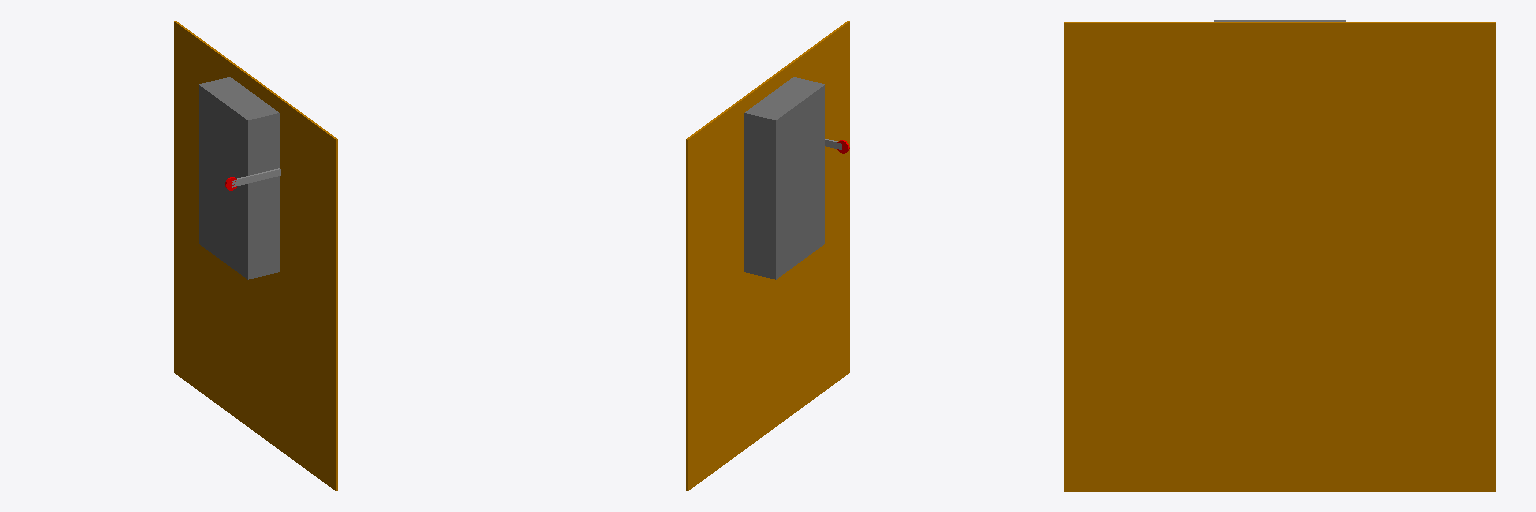
URDF robot description (DRCTestbedLever_fixed):
<?xml version="1.0"?>
<robot name="DRCTestbedLever_fixed"
       xmlns:xi="http://www.w3.org/2001/XInclude"
       >
  <gazebo>
    <static>false</static>
  </gazebo>
  <link name="DRC-TESTBED-LEVER-BODYSET9_link">
    <visual>
      <origin xyz="0 0 0" rpy="0 -0 0"/>
      <geometry>
        <mesh filename="model://DRCTestbedLever/meshes/DRC-TESTBED-LEVER-BODYSET9_link_mesh.dae" scale="1 1 1" />
      </geometry>
    </visual>
    <collision>
      <origin xyz="0 0 0" rpy="0 -0 0"/>
      <geometry>
        <mesh filename="model://DRCTestbedLever/meshes/DRC-TESTBED-LEVER-BODYSET9_link_mesh.dae" scale="1 1 1" />
      </geometry>
    </collision>
    <inertial>
      <mass value="0.001" />
      <origin xyz="0 0 0" rpy="0 -0 0"/>
      <inertia ixx="1e-03" ixy="0" ixz="0" iyy="1e-03" iyz="0" izz="1e-03"/>
    </inertial>
  </link>
  <gazebo reference="DRC-TESTBED-LEVER-BODYSET9_link">
    <mu1>0.9</mu1>
    <mu2>0.9</mu2>
  </gazebo>
  <link name="DRC-TESTBED-LEVER-BODYSET47_link">
    <visual>
      <origin xyz="0 -0.2025 1.365" rpy="0 -0 0"/>
      <geometry>
        <mesh filename="model://DRCTestbedLever/meshes/DRC-TESTBED-LEVER-BODYSET47_link_mesh.dae" scale="1 1 1" />
      </geometry>
    </visual>
    <collision>
      <origin xyz="0 -0.2025 1.365" rpy="0 -0 0"/>
      <geometry>
        <mesh filename="model://DRCTestbedLever/meshes/DRC-TESTBED-LEVER-BODYSET47_link_mesh.dae" scale="1 1 1" />
      </geometry>
    </collision>
    <inertial>
      <mass value="0.001" />
      <origin xyz="0 0 0" rpy="0 -0 0"/>
      <inertia ixx="1e-03" ixy="0" ixz="0" iyy="1e-03" iyz="0" izz="1e-03"/>
    </inertial>
  </link>
  <gazebo reference="DRC-TESTBED-LEVER-BODYSET47_link">
    <mu1>0.9</mu1>
    <mu2>0.9</mu2>
  </gazebo>
  <joint name="LEVER-JOINT" type="revolute">
    <parent link="DRC-TESTBED-LEVER-BODYSET9_link"/>
    <child  link="DRC-TESTBED-LEVER-BODYSET47_link"/>
    <origin xyz="0 -0.2025 1.365" rpy="0 -0 0 "/>
    <axis   xyz="0 1 0"/>
    <limit lower="-1.5708" upper="1.5708" effort="100" velocity="0.5" />
    <dynamics damping="0.2" friction="0" />
  </joint>
  <transmission type="pr2_mechanism_model/SimpleTransmission" name="LEVER-JOINT_trans" >
    <actuator name="LEVER-JOINT_motor" />
    <joint name="LEVER-JOINT" />
    <mechanicalReduction>1</mechanicalReduction>
  </transmission>
  <gazebo reference="LEVER-JOINT">
    <cfmDamping>0.4</cfmDamping>
  </gazebo>
  <!-- Used for fixing robot to Gazebo 'base_link' -->
  <link name="world"/>
  <joint name="fixed" type="fixed">
    <parent link="world"/>
    <child link="DRC-TESTBED-LEVER-BODYSET9_link"/>
  </joint>
</robot>

--- Facts derived from the render (not from the file) ---
Views: 3 orthographic renders of the robot side by side, from view 1: azimuth 30°, elevation 25°; view 2: azimuth 150°, elevation 25°; view 3: azimuth 270°, elevation 25°.
Model DRCTestbedLever_fixed with 3 links and 2 joints (1 revolute, 1 fixed), rooted at world, posed all joints at 0.
Visible links, largest first — view 1: DRC-TESTBED-LEVER-BODYSET9_link; view 2: DRC-TESTBED-LEVER-BODYSET9_link; view 3: DRC-TESTBED-LEVER-BODYSET9_link.
Link boxes in pixels (bbox=[...]): DRC-TESTBED-LEVER-BODYSET9_link: bbox=[174, 21, 337, 490]; DRC-TESTBED-LEVER-BODYSET9_link: bbox=[686, 21, 849, 490]; DRC-TESTBED-LEVER-BODYSET9_link: bbox=[1064, 20, 1495, 491].
Bounding box of the posed robot: 0.269 × 1.33 × 1.59 m (x, y, z).
2 mesh visuals loaded from 2 distinct referenced files (2 Collada DAE).